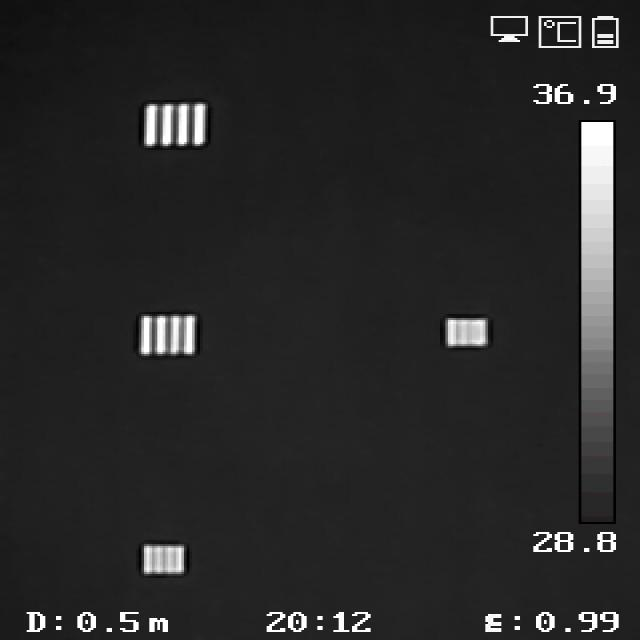Distinguishable 4-bar target: (140, 100, 209, 146), (139, 313, 197, 355)
threshold 4-bar target: (447, 319, 488, 349), (142, 546, 186, 573)
